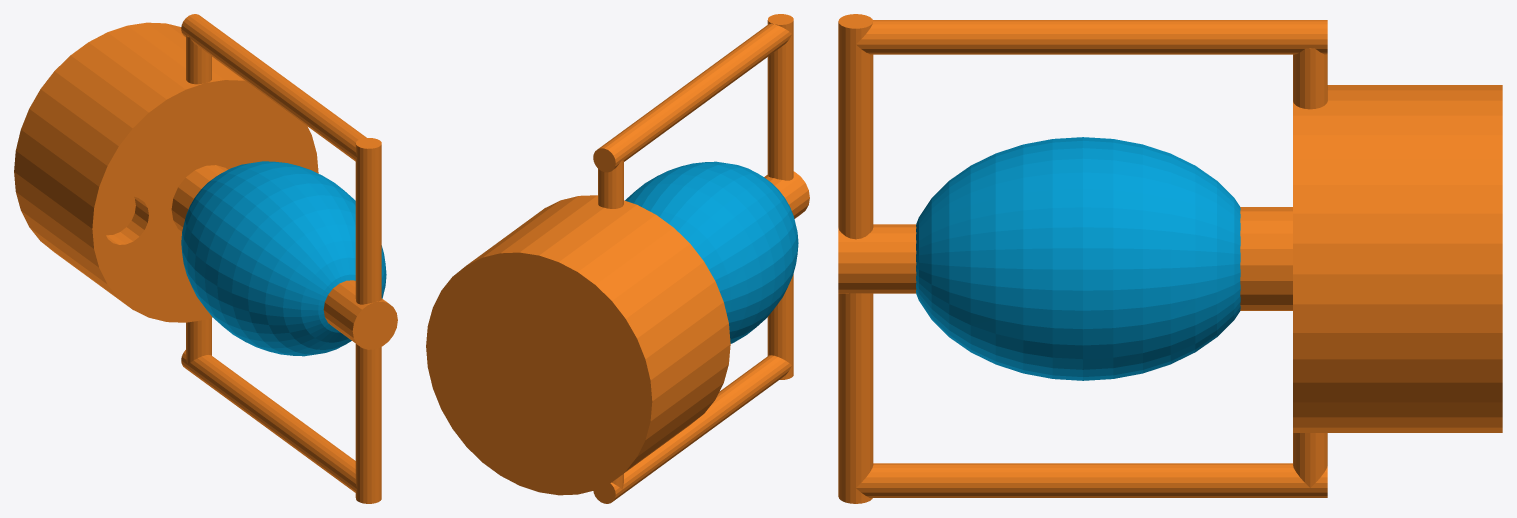
Rendered from tinker.obj.
3 renders of one model, left to right at view 1: azimuth 30°, elevation 25°; view 2: azimuth 150°, elevation 25°; view 3: azimuth 270°, elevation 25°, orthographic. The views are drawn at different scales.
Parts seen in each view (by area): view 1: group_0_16089887, group_0_40919; view 2: group_0_16089887, group_0_40919; view 3: group_0_16089887, group_0_40919.
Part boxes in pixels (bbox=[...]): group_0_16089887: bbox=[14, 14, 397, 503]; group_0_40919: bbox=[181, 161, 386, 356]; group_0_16089887: bbox=[426, 14, 809, 503]; group_0_40919: bbox=[625, 161, 798, 343]; group_0_16089887: bbox=[838, 14, 1502, 503]; group_0_40919: bbox=[916, 137, 1240, 380].
Size of the model in its own units: 20 by 30 by 38.
